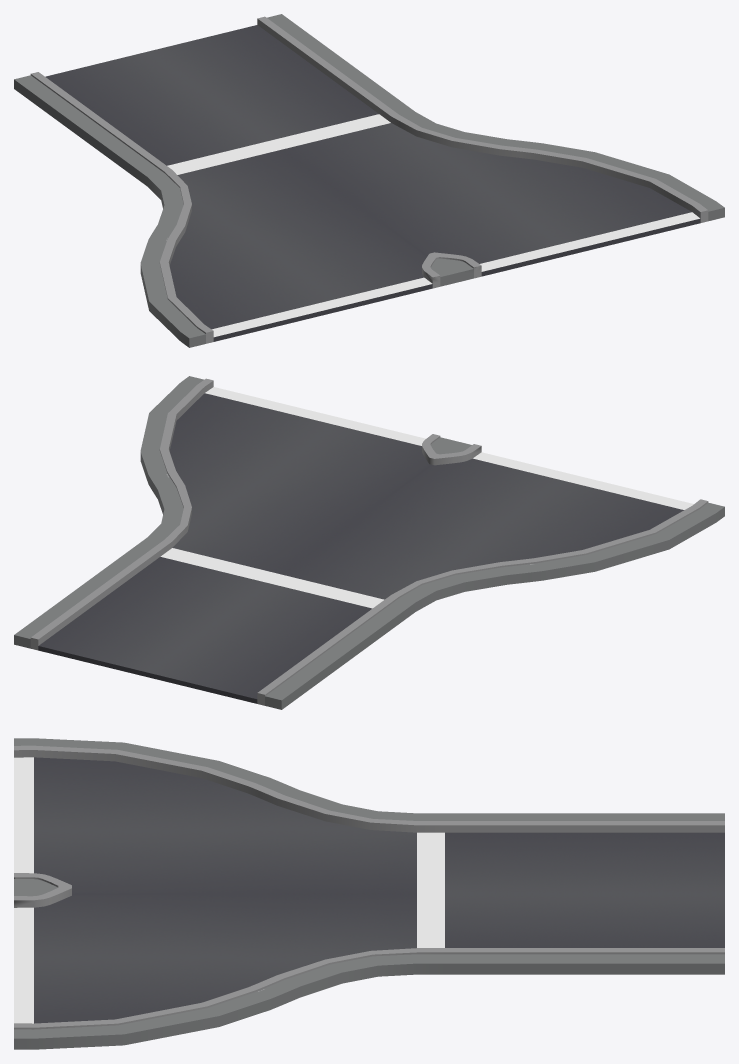
The model's file is Road11_Y_Splitter.glb.
The picture shows the model from 3 angles, top to bottom: view 1: azimuth 30°, elevation 25°; view 2: azimuth 150°, elevation 25°; view 3: azimuth 270°, elevation 25°; orthographic projection. The views are drawn at different scales.
Visible parts, largest first — view 1: Road11_Y_Splitter; view 2: Road11_Y_Splitter; view 3: Road11_Y_Splitter.
Part boxes in pixels (box(x1,y1,x2,y2)): Road11_Y_Splitter: box(14, 14, 724, 347); Road11_Y_Splitter: box(14, 376, 724, 709); Road11_Y_Splitter: box(14, 738, 724, 1049).
Size of the model in its own units: 24 by 0.4754 by 24.
Materials: 1 (1 with a texture image).
